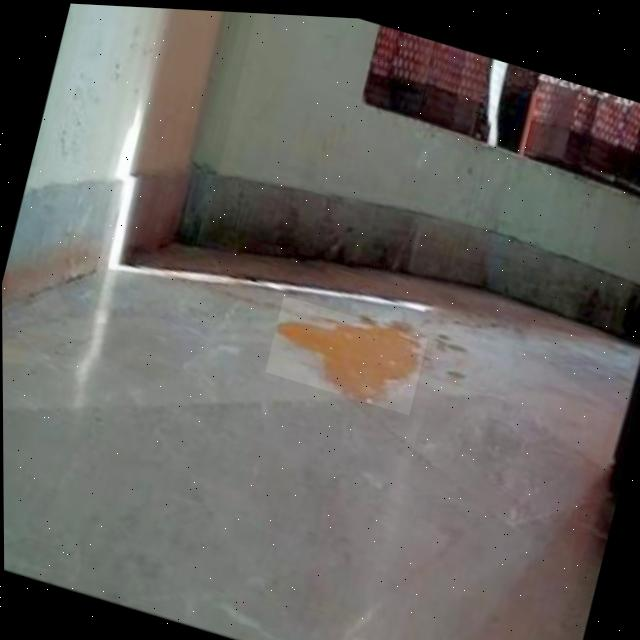spillage: (275, 317, 420, 399)
